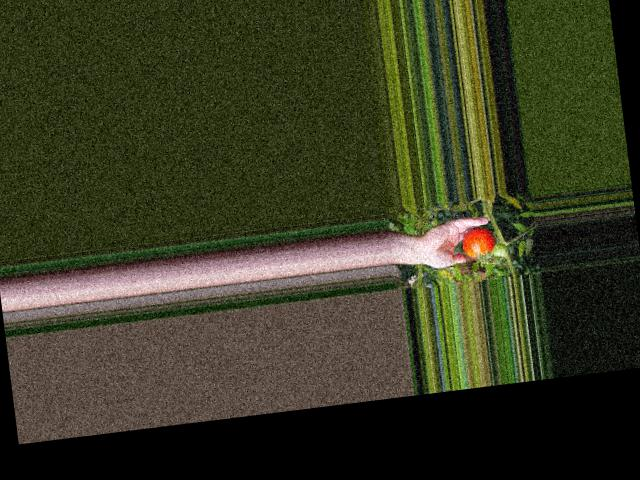tomato: (460, 226, 497, 259)
